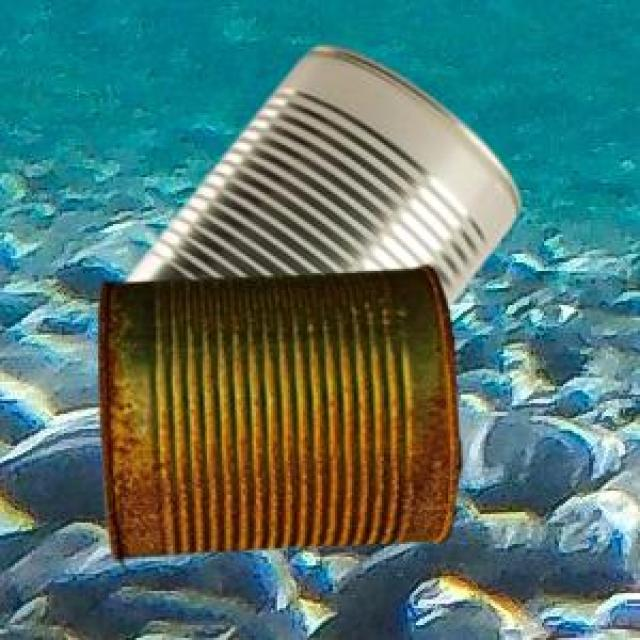Can: (95, 263, 458, 558), (121, 42, 517, 304)
